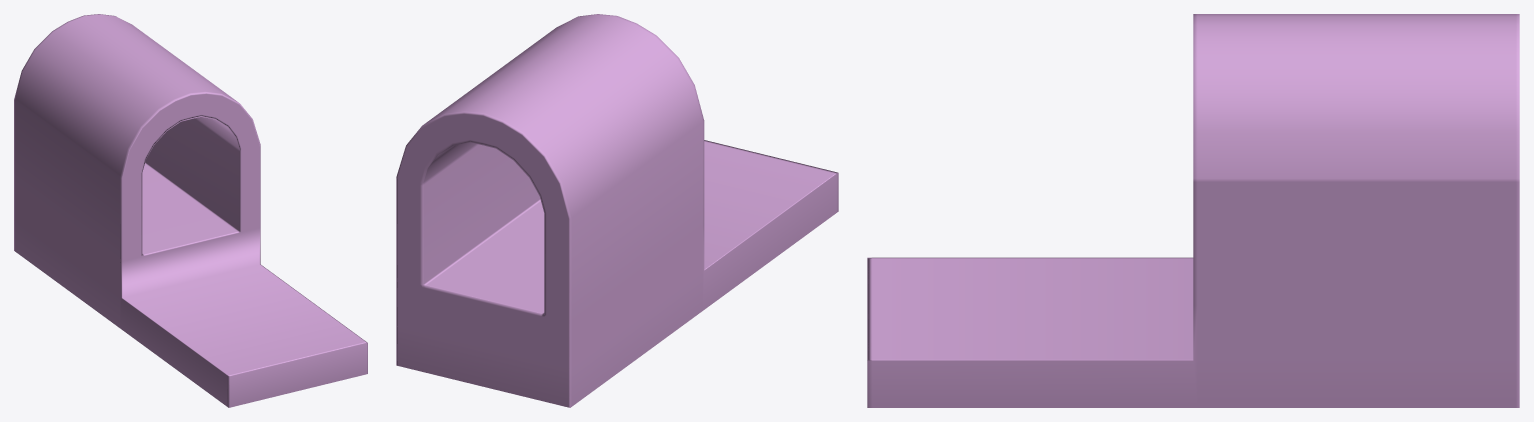
File: Sell_Band_End.fbx
The picture shows the model from 3 angles, left to right: view 1: azimuth 30°, elevation 25°; view 2: azimuth 150°, elevation 25°; view 3: azimuth 270°, elevation 25°; orthographic projection. The views are drawn at different scales.
Parts seen in each view (by area): view 1: pCube4; view 2: pCube4; view 3: pCube4.
Boxes of the visible parts, x1,y1,x2,y2 form: pCube4: [14, 14, 367, 407]; pCube4: [396, 14, 838, 407]; pCube4: [867, 14, 1519, 407].
Bounding box in the file's own units: 3.76 × 5.63 × 10.05.
